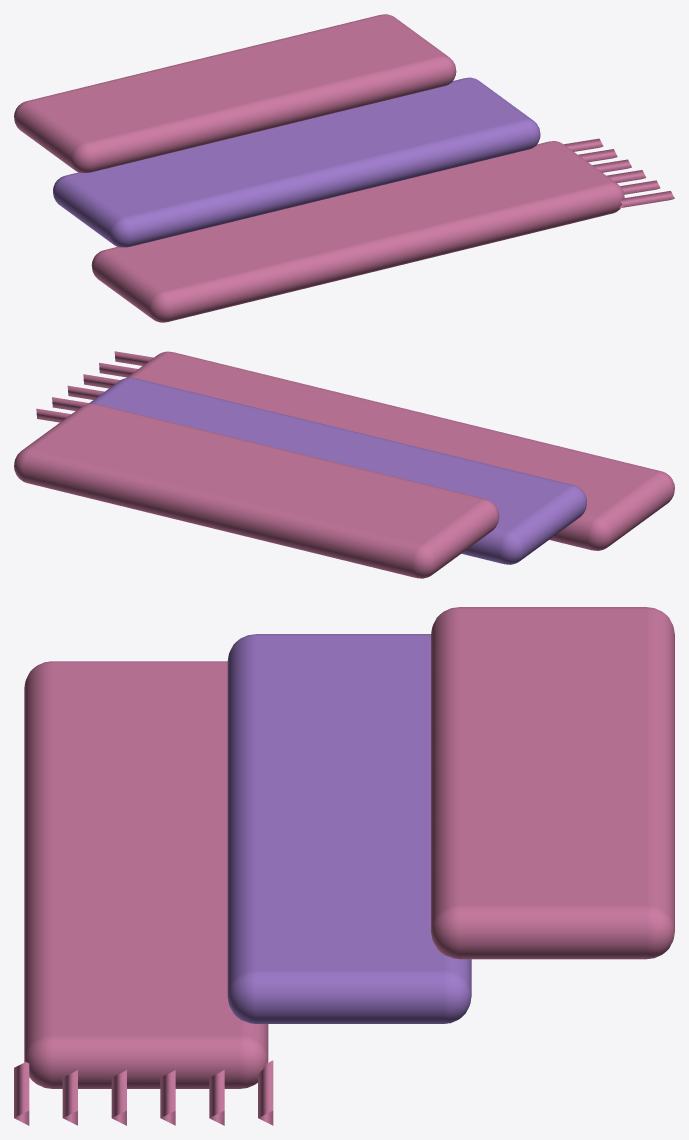
The model's file is item_ic_lost_scarf.glb.
The picture shows the model from 3 angles, top to bottom: view 1: azimuth 30°, elevation 25°; view 2: azimuth 150°, elevation 25°; view 3: azimuth 270°, elevation 25°; orthographic projection. The views are drawn at different scales.
Parts seen in each view (by area): view 1: item_ic_lost_scarf_main; view 2: item_ic_lost_scarf_main; view 3: item_ic_lost_scarf_main.
Boxes of the visible parts, <box> form: item_ic_lost_scarf_main: <box>14,14,674,322</box>; item_ic_lost_scarf_main: <box>14,351,674,578</box>; item_ic_lost_scarf_main: <box>14,607,674,1125</box>.
Size of the model in its own units: 0.2502 by 0.038 by 0.1625.
